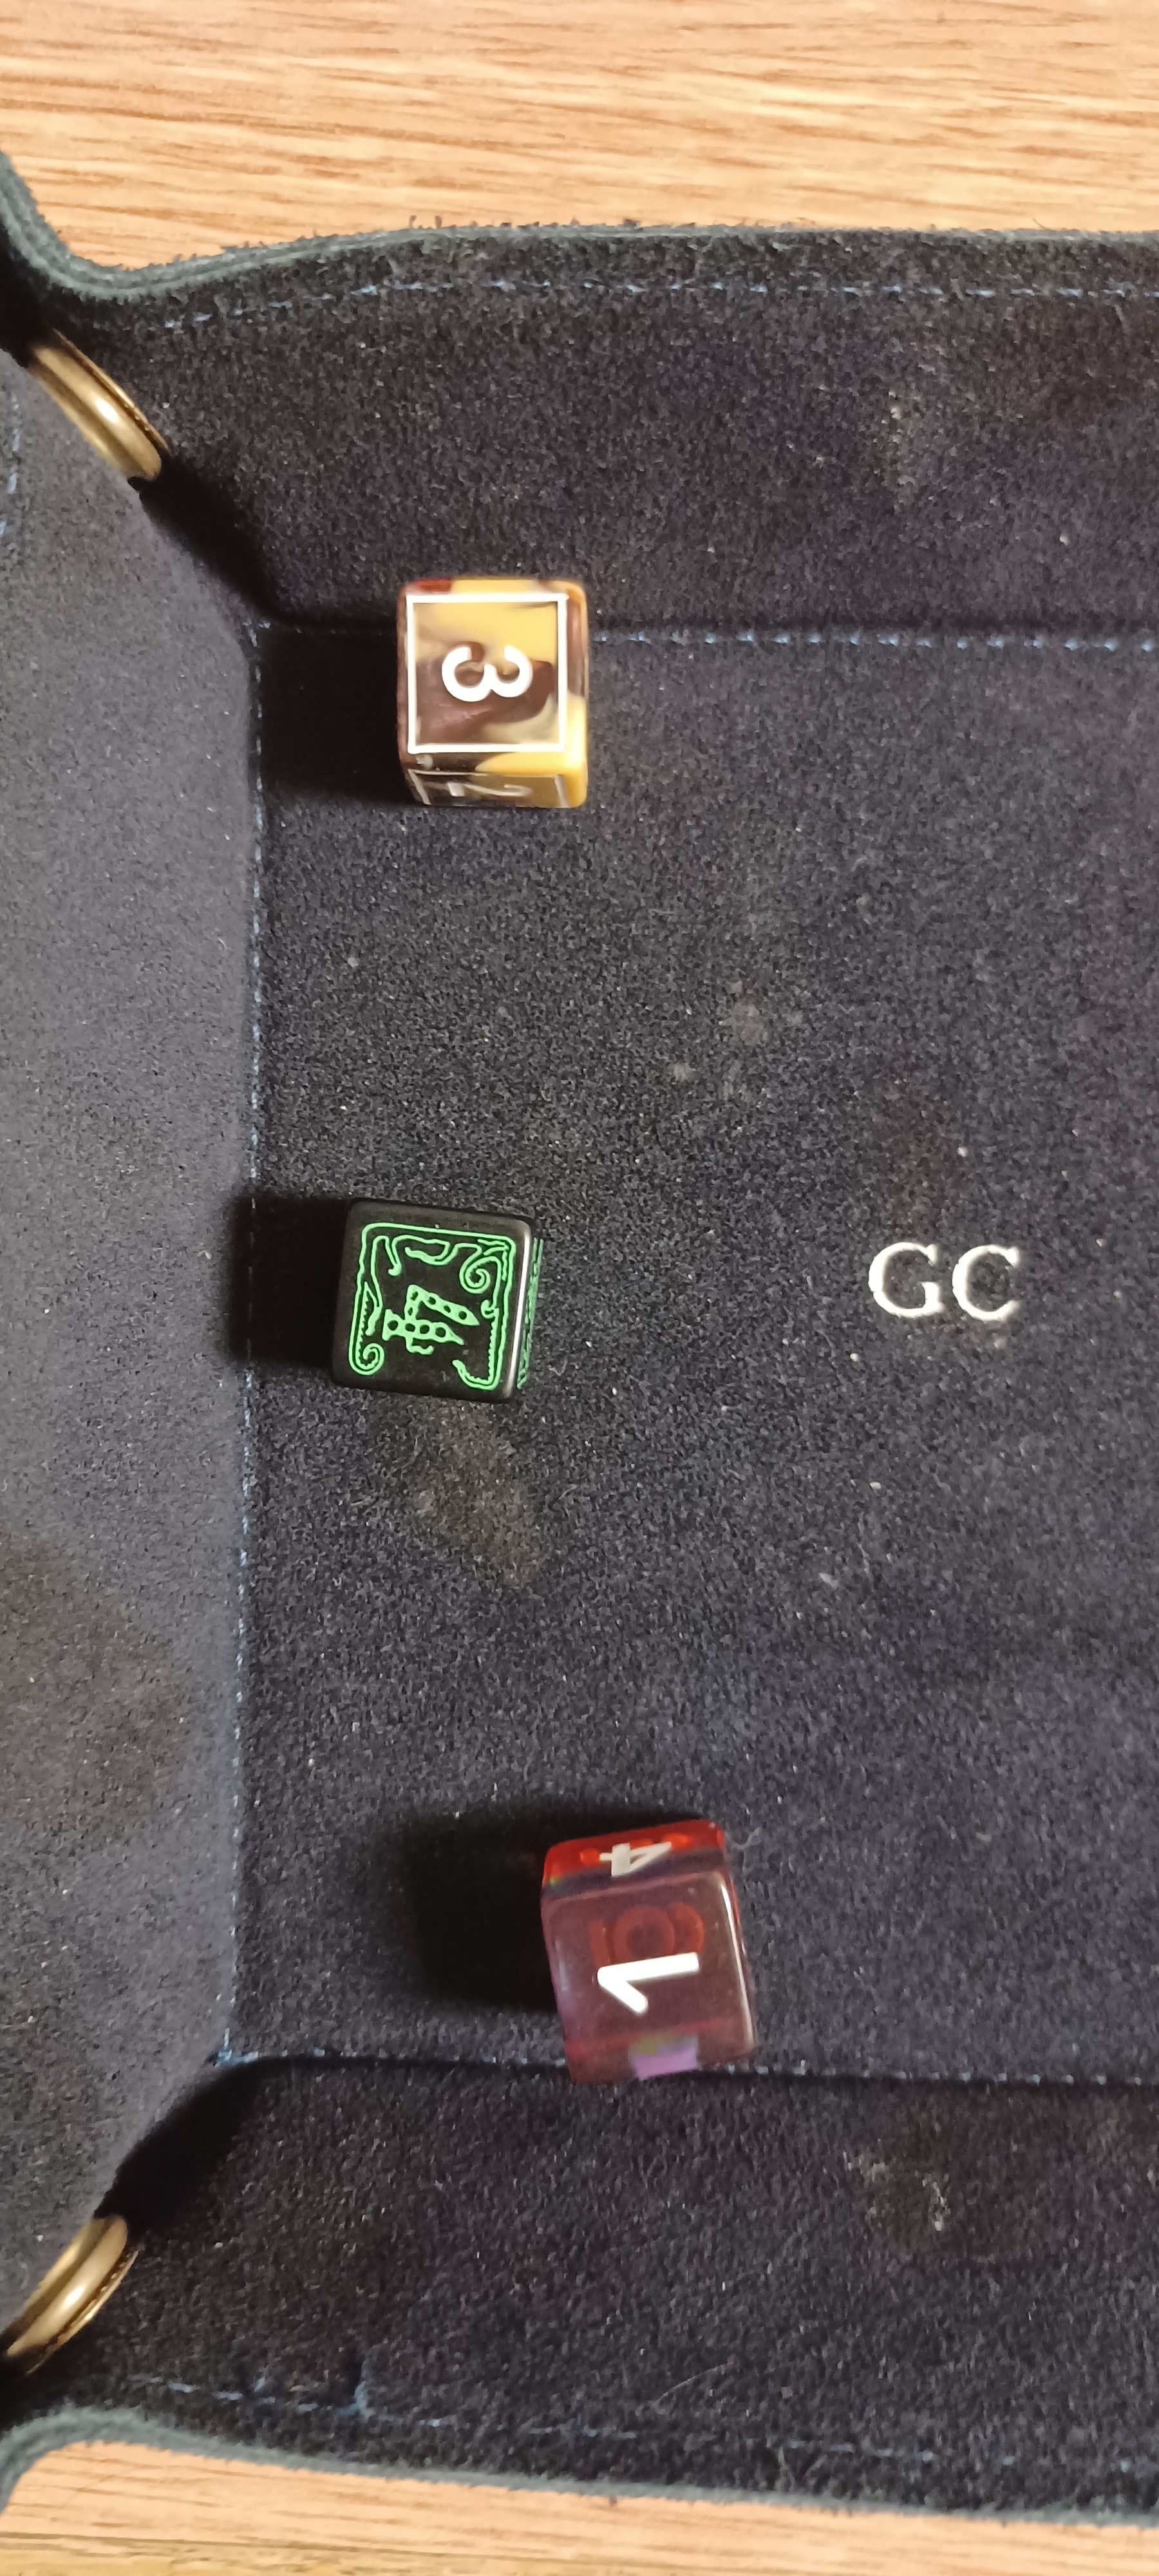four: (284, 1157, 598, 1452)
one: (522, 1801, 793, 2100)
three: (323, 521, 673, 844)
